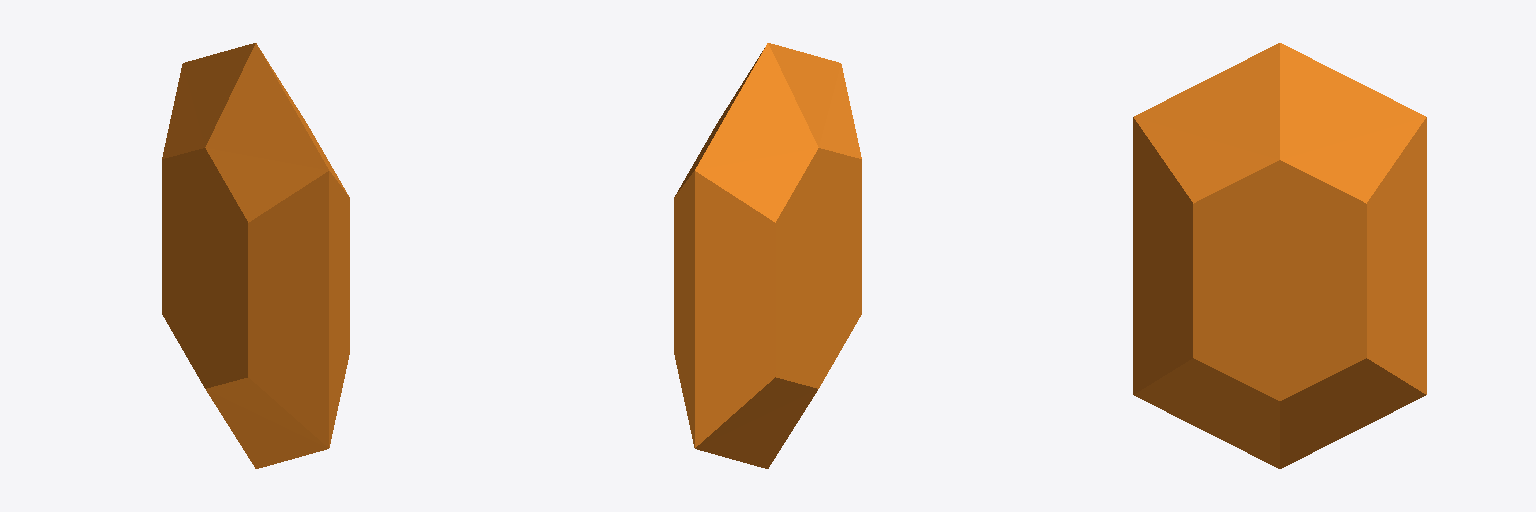
Rendered from Topaz.obj.
3 views of the same model, side by side, from view 1: azimuth 30°, elevation 25°; view 2: azimuth 150°, elevation 25°; view 3: azimuth 270°, elevation 25° (orthographic).
Visible parts, largest first — view 1: Topaz_Plane.003; view 2: Topaz_Plane.003; view 3: Topaz_Plane.003.
Part boxes in pixels (bbox=[...]): Topaz_Plane.003: bbox=[162, 43, 349, 468]; Topaz_Plane.003: bbox=[674, 43, 861, 468]; Topaz_Plane.003: bbox=[1133, 43, 1426, 468].
Bounding box in the file's own units: 0.28 × 1.12 × 0.7006.